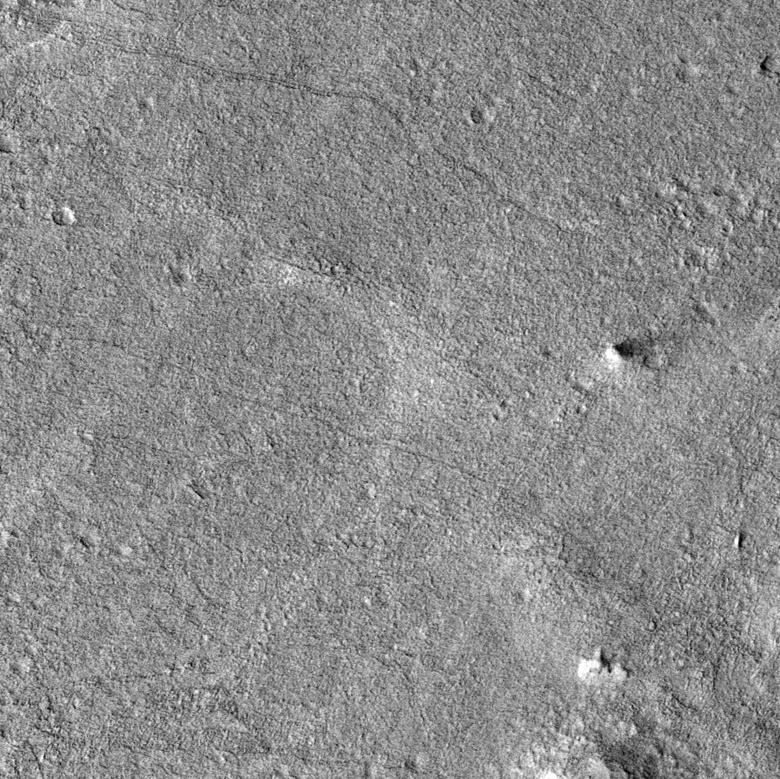dust_devil: (602, 335, 659, 365)
